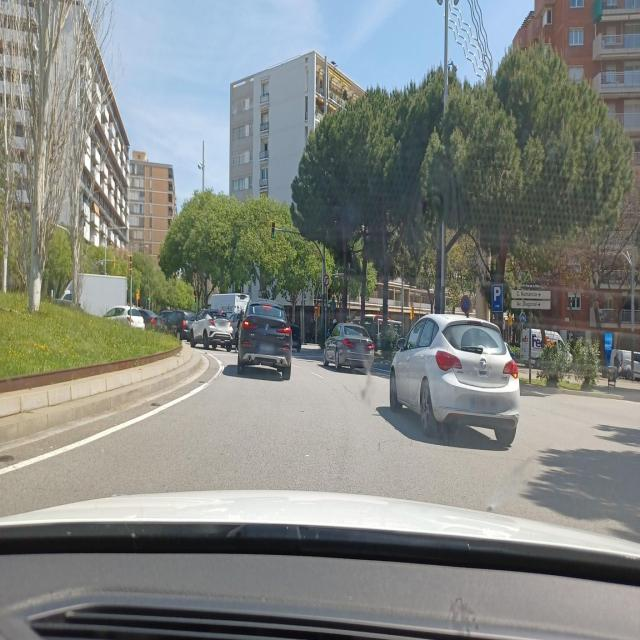forb_stopping: (461, 295, 471, 313)
